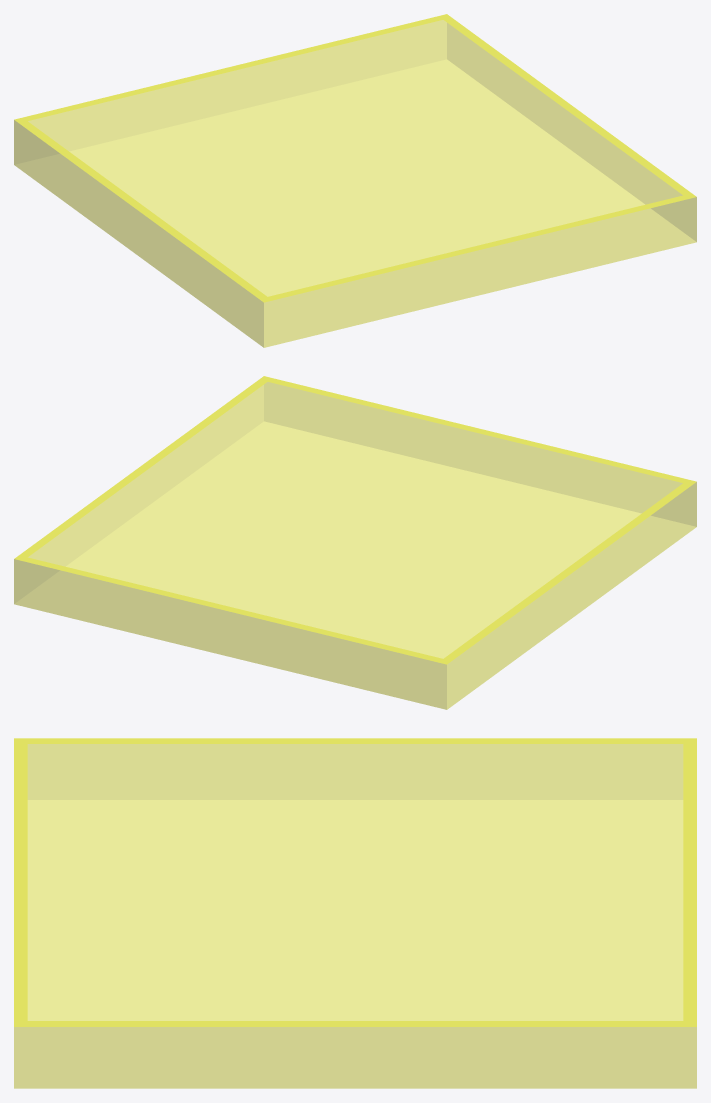
File: quad-placeholder.dae
3 renders of one model, top to bottom at view 1: azimuth 30°, elevation 25°; view 2: azimuth 150°, elevation 25°; view 3: azimuth 270°, elevation 25°, orthographic. The views are drawn at different scales.
Parts seen in each view (by area): view 1: MAS_PLACEHOLDER_TILE (×3); view 2: MAS_PLACEHOLDER_TILE (×3); view 3: MAS_PLACEHOLDER_TILE (×3).
Part boxes in pixels (left/top/right/bottom): MAS_PLACEHOLDER_TILE (×3): left=14, top=14, right=696, bottom=347; MAS_PLACEHOLDER_TILE (×3): left=14, top=376, right=696, bottom=709; MAS_PLACEHOLDER_TILE (×3): left=14, top=738, right=696, bottom=1088.
Bounding box in the file's own units: 39.37 × 39.37 × 3.94.
